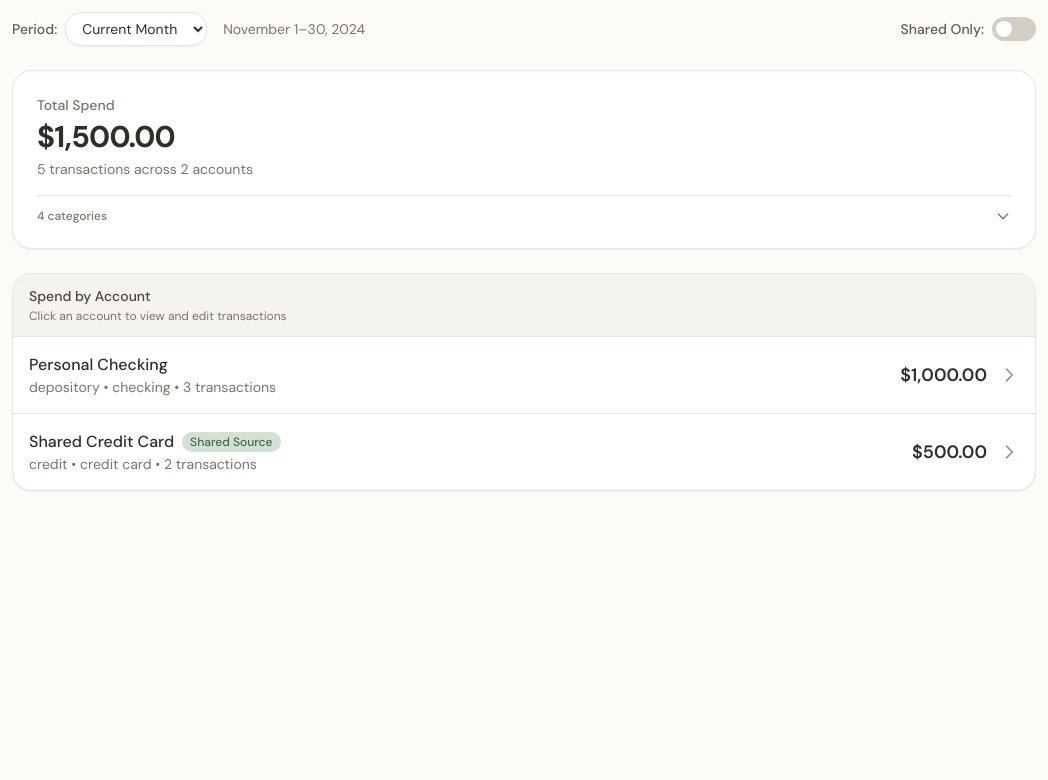
it: SpendSummary › Category Rollup › displays category totals and counts when expanded
The image size is (1048, 780).
Expected: the text "Personal Checking" is shown, [29,353,168,377]
// Expand category rollup
Click the button "4 categories": [68, 216] box [37,208,1011,224]
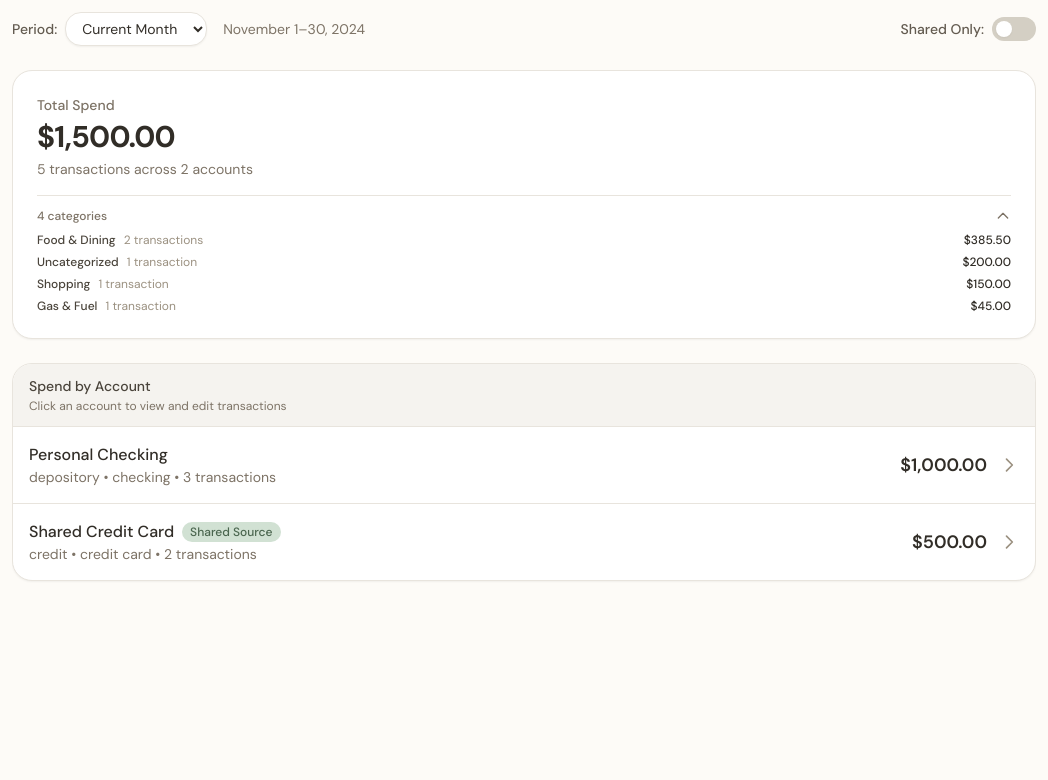
Expected: the text "Food & Dining" is shown, [37,232,116,248]
Expected: the text "Shopping" is shown, [37,276,90,292]
Expected: the text "Gas & Fuel" is shown, [37,298,98,314]
